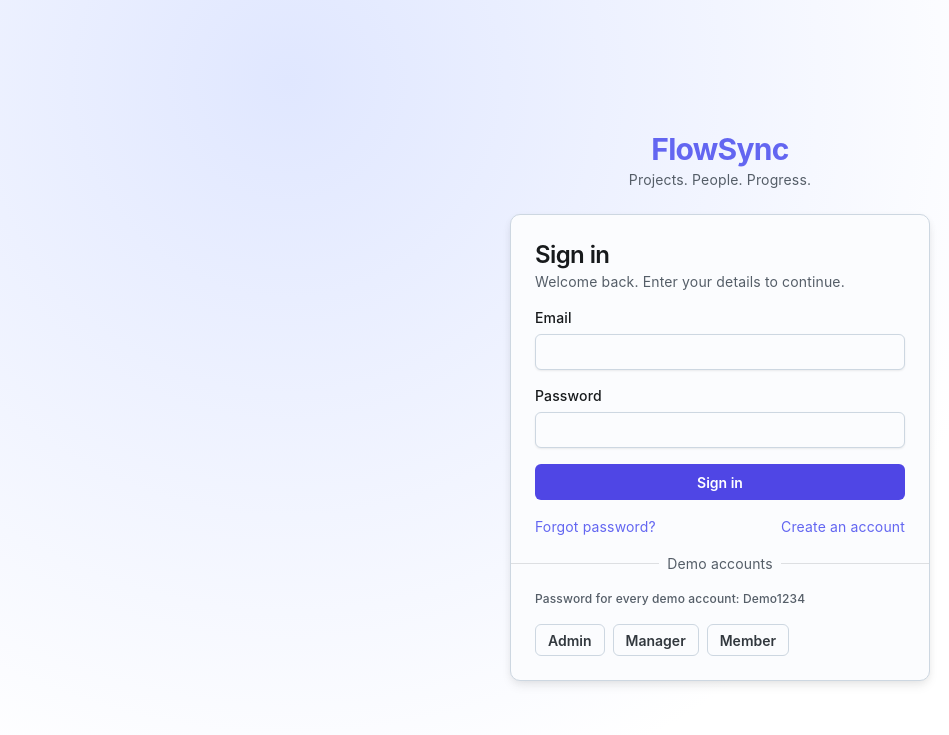
Test: authentication flow › shows one generic error for wrong credentials
The width and height of the screenshot is (949, 735).
Type "admin@flowsync.dev" into the field labelled "Email".
click(720, 352); type("admin@flowsync.dev")  # box [548,335,892,369]
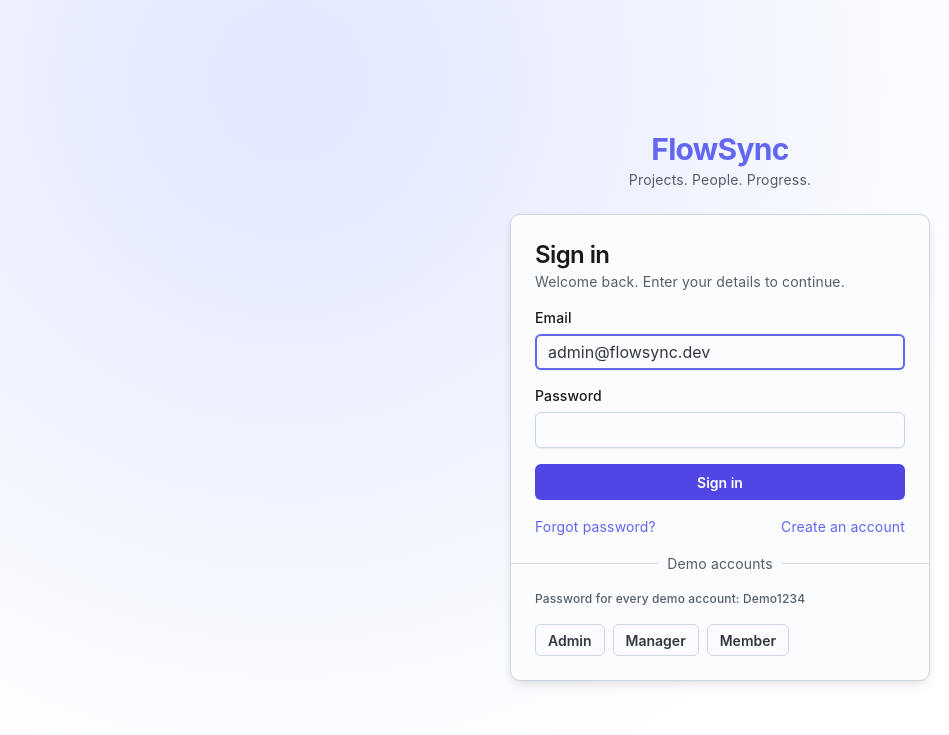
Type "wrong-password" into the password field labelled "Password".
click(720, 430); type("wrong-password")  # box [548,413,892,447]
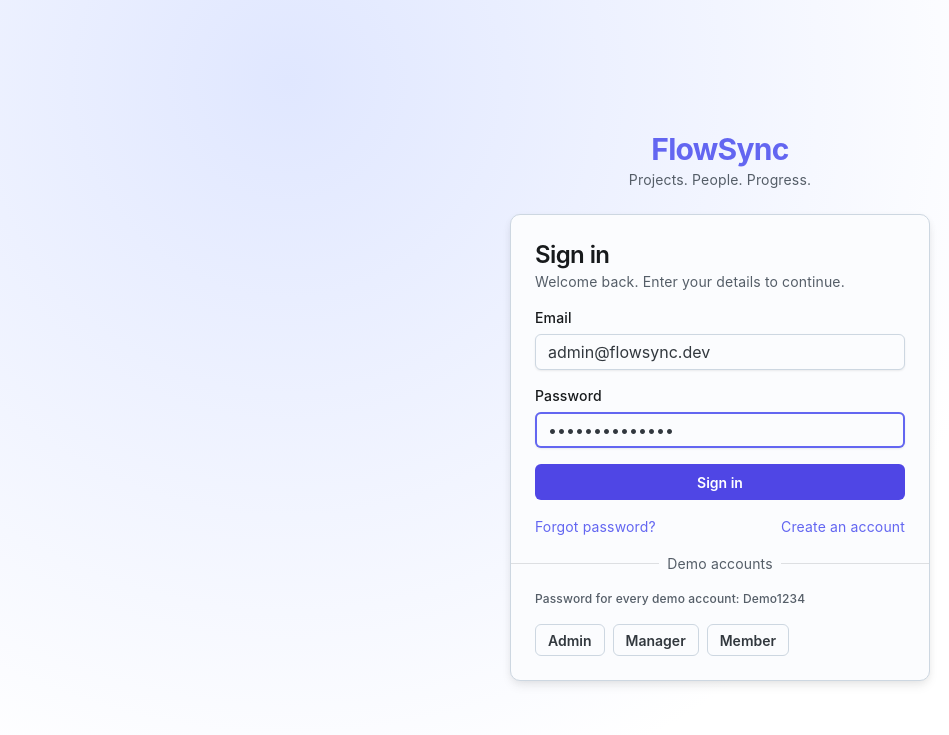
Click the button "Sign in".
click(720, 482)  # box [535,464,905,500]
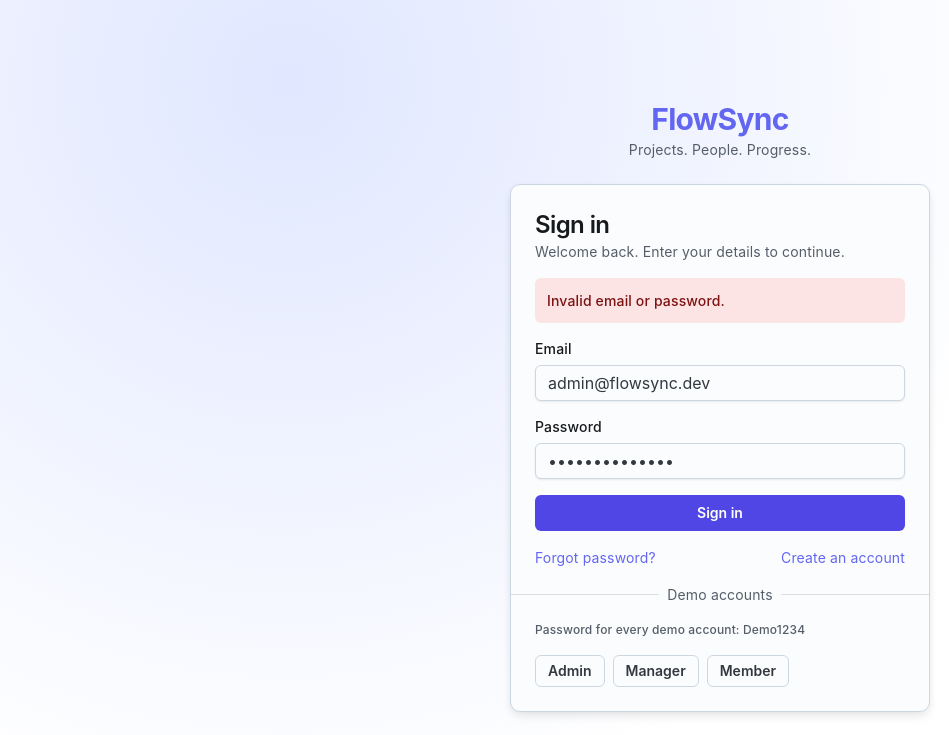
expect the text "Invalid email or password." is shown: met, box [535,278,905,322]
